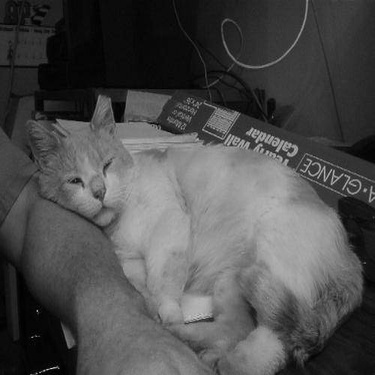cat: (23, 93, 364, 371)
